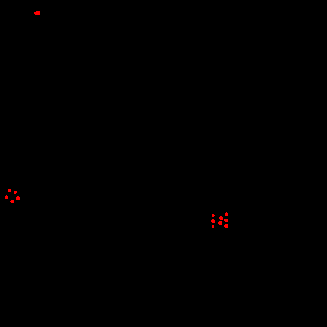Target: (34, 11, 40, 15), (16, 196, 20, 200), (219, 216, 223, 220), (211, 219, 215, 223), (218, 221, 222, 225), (224, 224, 228, 228), (5, 195, 8, 199), (10, 200, 14, 203), (225, 212, 228, 216), (224, 219, 228, 222), (8, 189, 11, 192), (14, 191, 17, 194), (212, 214, 215, 217), (212, 225, 214, 228)
